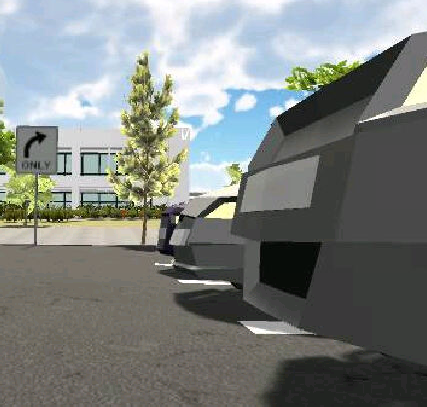arrow_right: (21, 129, 48, 160)
